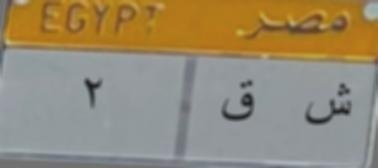2: (80, 70, 106, 116)
qaaf: (220, 78, 257, 132)
sheen: (301, 81, 356, 136)
